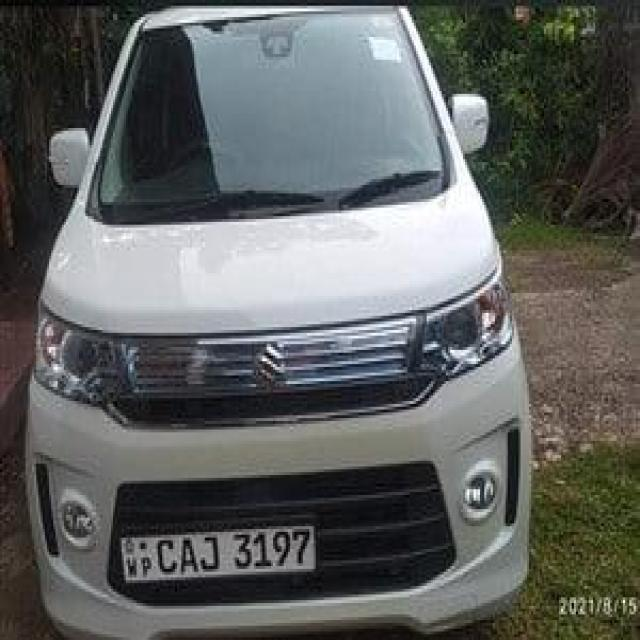license-plate: (117, 524, 316, 578)
